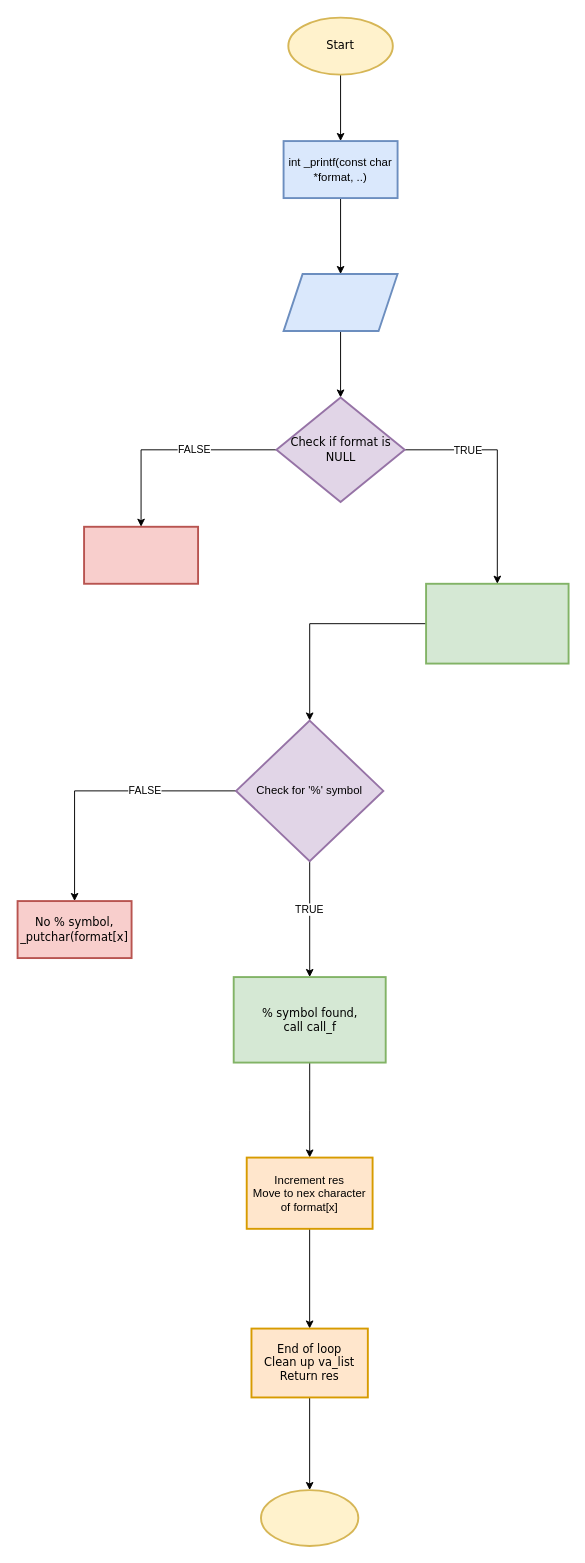
Some shapes in this 585 by 1563 pixel diagram are drawn without their labels. Here are the shapes that lost their labels. From the top down, the centre of each, then its label:
the point at 340,302: int x, res = 0; va_list args;
the point at 141,554: Format is NULL, Return -(1)
the point at 497,623: Loop through format
the point at 309,1517: END
